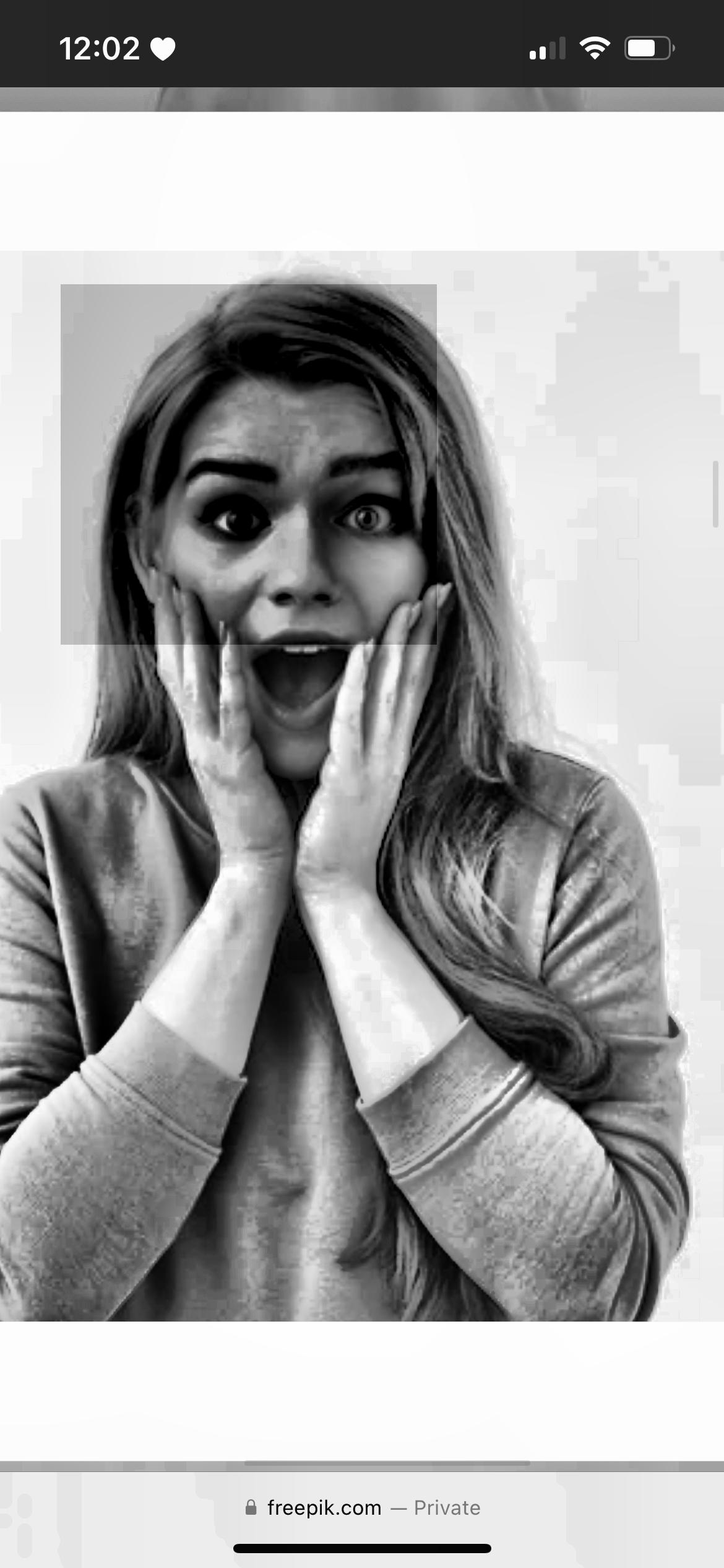surprised: (75, 351, 541, 797)
